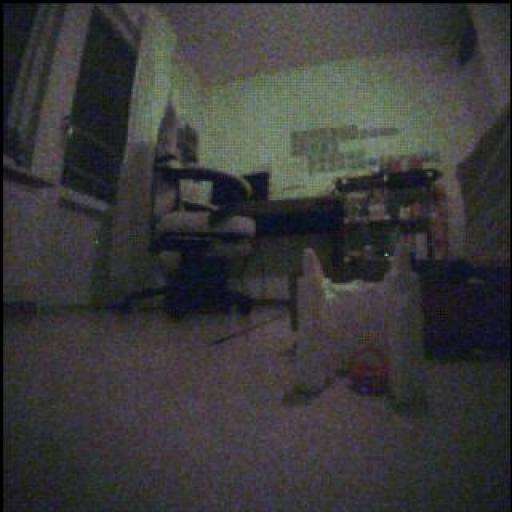basket: (350, 347, 390, 396)
